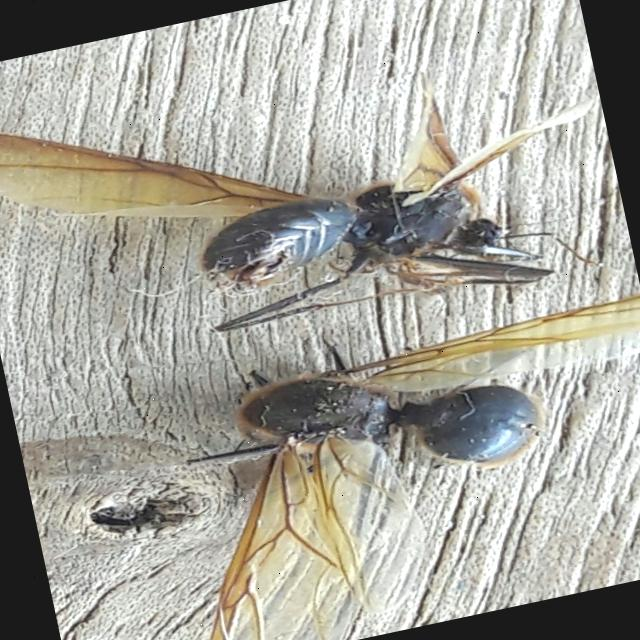Dead-Male-Alate: (0, 0, 632, 394), (119, 259, 640, 640)
